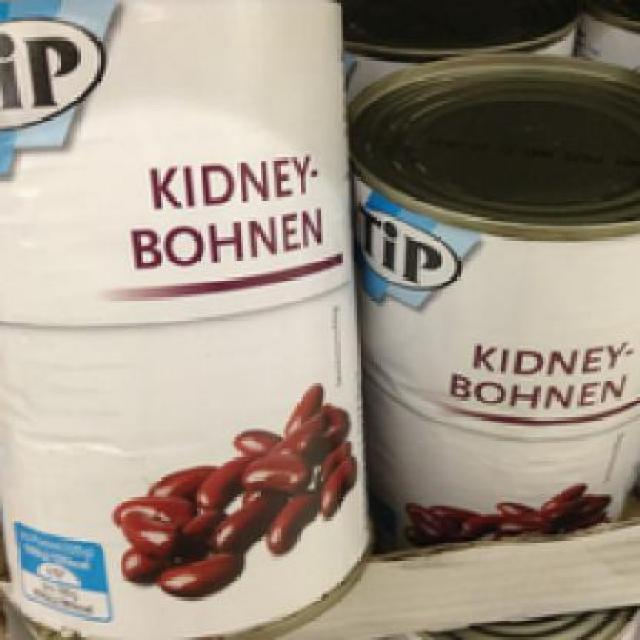Beans: (0, 0, 349, 635), (352, 29, 638, 538)
